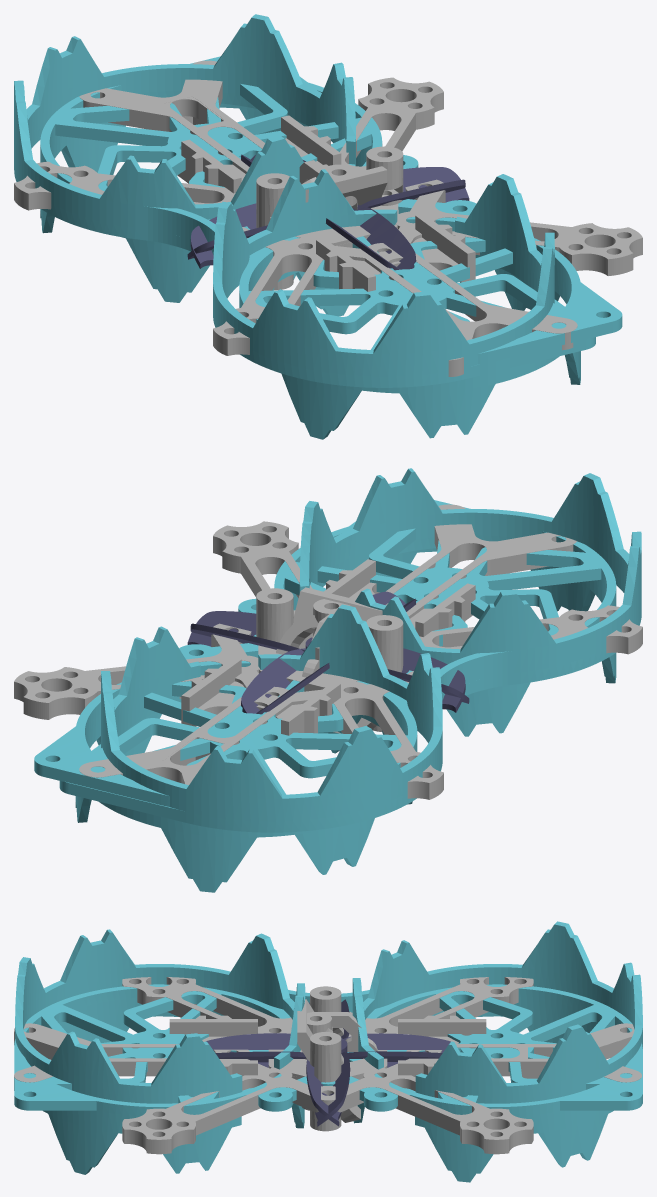
Rendered from bateleur.v0.2.12.squashed.glb.
3 renders of one model, top to bottom at view 1: azimuth 30°, elevation 25°; view 2: azimuth 150°, elevation 25°; view 3: azimuth 270°, elevation 25°, orthographic. The views are drawn at different scales.
Parts seen in each view (by area): view 1: PropguardsBottom, PropguardsTop, Coretop, Batteryplate, Antennamount, PropellerCCW, PropellerCW, Corebottom, CameraBracket; view 2: PropguardsBottom, PropguardsTop, Coretop, Batteryplate, Antennamount, Corebottom, PropellerCW, PropellerCCW, CameraBracket; view 3: PropguardsBottom, PropguardsTop, Coretop, Batteryplate, Antennamount, Corebottom, PropellerCW, PropellerCCW, CameraBracket.
Part boxes in pixels (x1,y1,x2,y2): PropguardsBottom: [14, 14, 595, 387]; PropguardsTop: [40, 56, 622, 439]; Coretop: [14, 60, 642, 376]; Batteryplate: [181, 115, 475, 291]; Antennamount: [256, 146, 403, 290]; PropellerCCW: [187, 154, 469, 269]; PropellerCW: [190, 151, 465, 270]; Corebottom: [80, 94, 486, 321]; CameraBracket: [299, 160, 357, 209]; PropguardsBottom: [59, 468, 641, 832]; PropguardsTop: [34, 500, 616, 892]; Coretop: [14, 504, 642, 799]; Batteryplate: [181, 559, 475, 735]; Antennamount: [256, 587, 403, 733]; Corebottom: [81, 509, 572, 783]; PropellerCW: [187, 598, 469, 713]; PropellerCCW: [190, 591, 465, 714]; CameraBracket: [302, 599, 350, 677]; PropguardsBottom: [15, 921, 642, 1104]; PropguardsTop: [14, 984, 642, 1182]; Coretop: [14, 977, 641, 1154]; Batteryplate: [169, 1015, 486, 1111]; Antennamount: [297, 986, 360, 1131]; Corebottom: [25, 1027, 641, 1112]; PropellerCW: [206, 999, 442, 1126]; PropellerCCW: [215, 1002, 450, 1126]; CameraBracket: [300, 1012, 377, 1110].
Size of the model in its own units: 78 by 28.08 by 119.
